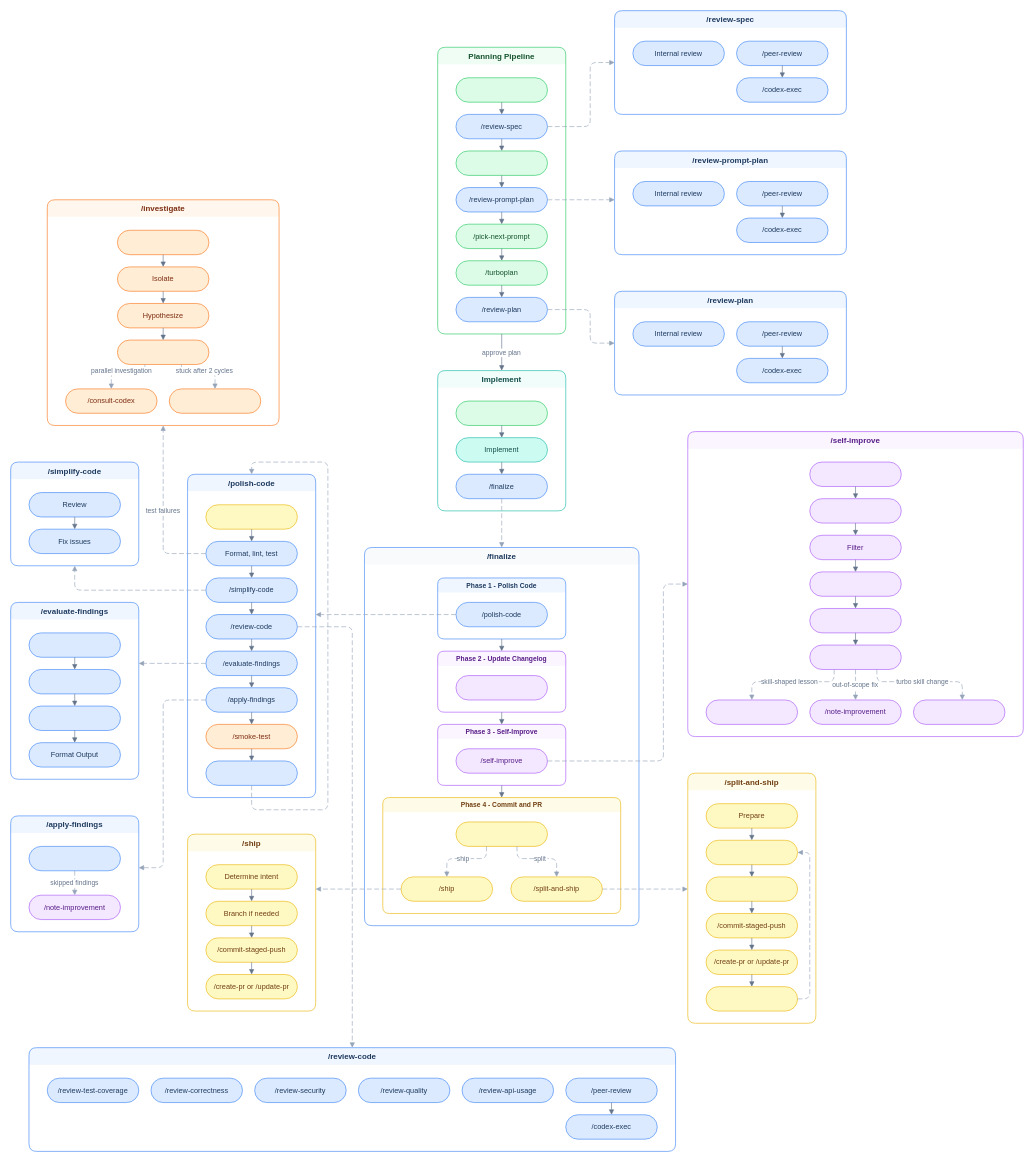
Image size: 1034x1162. Some labels were removed from this diagram. Here are the shapes that lost their labels. From the top down, the centre of each, then its label:
the point at 501,89: /create-spec
the point at 501,162: /create-prompt-plan
the point at 163,242: Characterize
the point at 163,351: Test
the point at 215,400: /consult-oracle
the point at 501,412: /code-style
the point at 855,473: Detect Context
the point at 251,516: /stage
the point at 855,510: Scan Session
the point at 855,583: Route
the point at 855,620: Present
the point at 74,644: Assess each finding
the point at 855,656: Execute
the point at 74,681: Devil's Advocate
the point at 501,687: /update-changelog
the point at 74,717: Reconciliation
the point at 751,711: /create-skill
the point at 959,711: /contribute-turbo
the point at 251,772: Re-run if changed
the point at 501,833: Analyze
the point at 751,852: Determine branch
the point at 74,858: Apply fixes
the point at 751,888: Restore and stage
the point at 751,998: Next group
